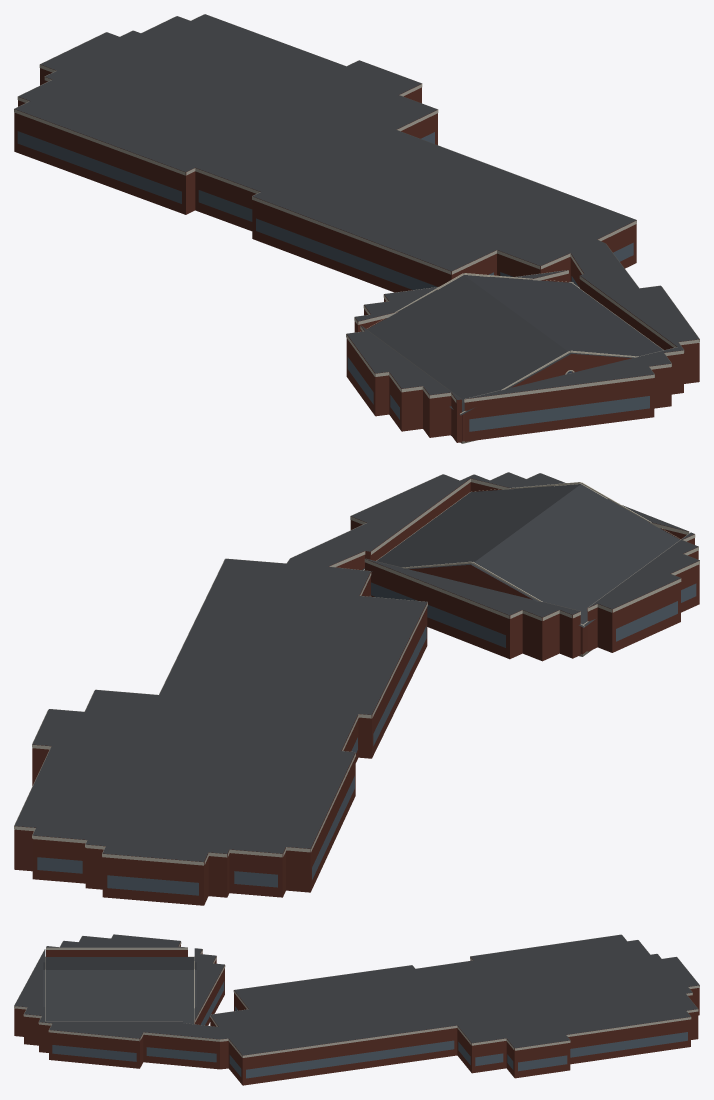
The model's file is faith-baptist-nlr.glb.
3 views of the same model, one above another, from view 1: azimuth 30°, elevation 25°; view 2: azimuth 150°, elevation 25°; view 3: azimuth 270°, elevation 25° (orthographic). The views are drawn at different scales.
Visible parts, largest first — view 1: faith_baptist_nlr; view 2: faith_baptist_nlr; view 3: faith_baptist_nlr.
Boxes of the visible parts, box(x1,y1,x2,y2) form: faith_baptist_nlr: box(14, 14, 699, 443); faith_baptist_nlr: box(14, 472, 699, 905); faith_baptist_nlr: box(14, 934, 699, 1085).
Bounding box in the file's own units: 50.24 × 9.16 × 120.
